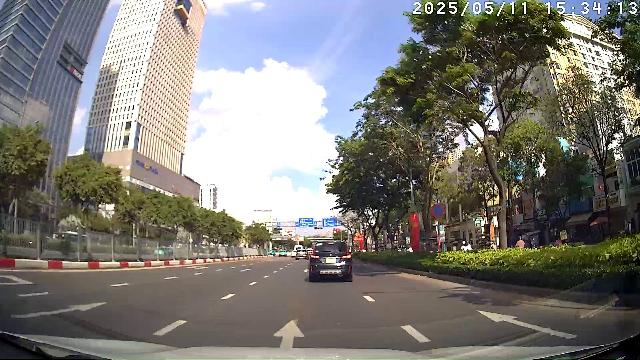130-cam-dung-va-do-xe: (432, 204, 444, 218)
